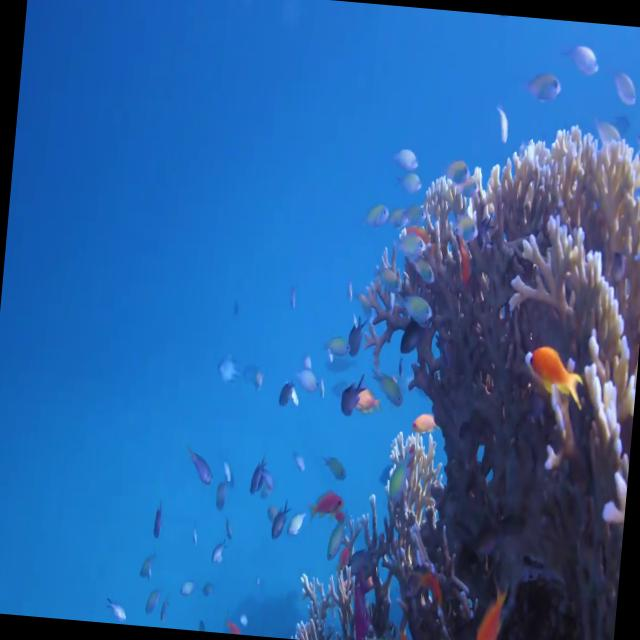fish: (514, 339, 586, 410), (384, 442, 424, 520), (521, 53, 568, 115), (386, 284, 436, 336), (304, 478, 348, 530), (559, 31, 603, 82), (178, 438, 220, 490), (336, 365, 369, 423), (608, 48, 640, 105), (263, 491, 292, 547), (245, 452, 275, 504), (342, 307, 372, 356), (408, 404, 436, 446)
